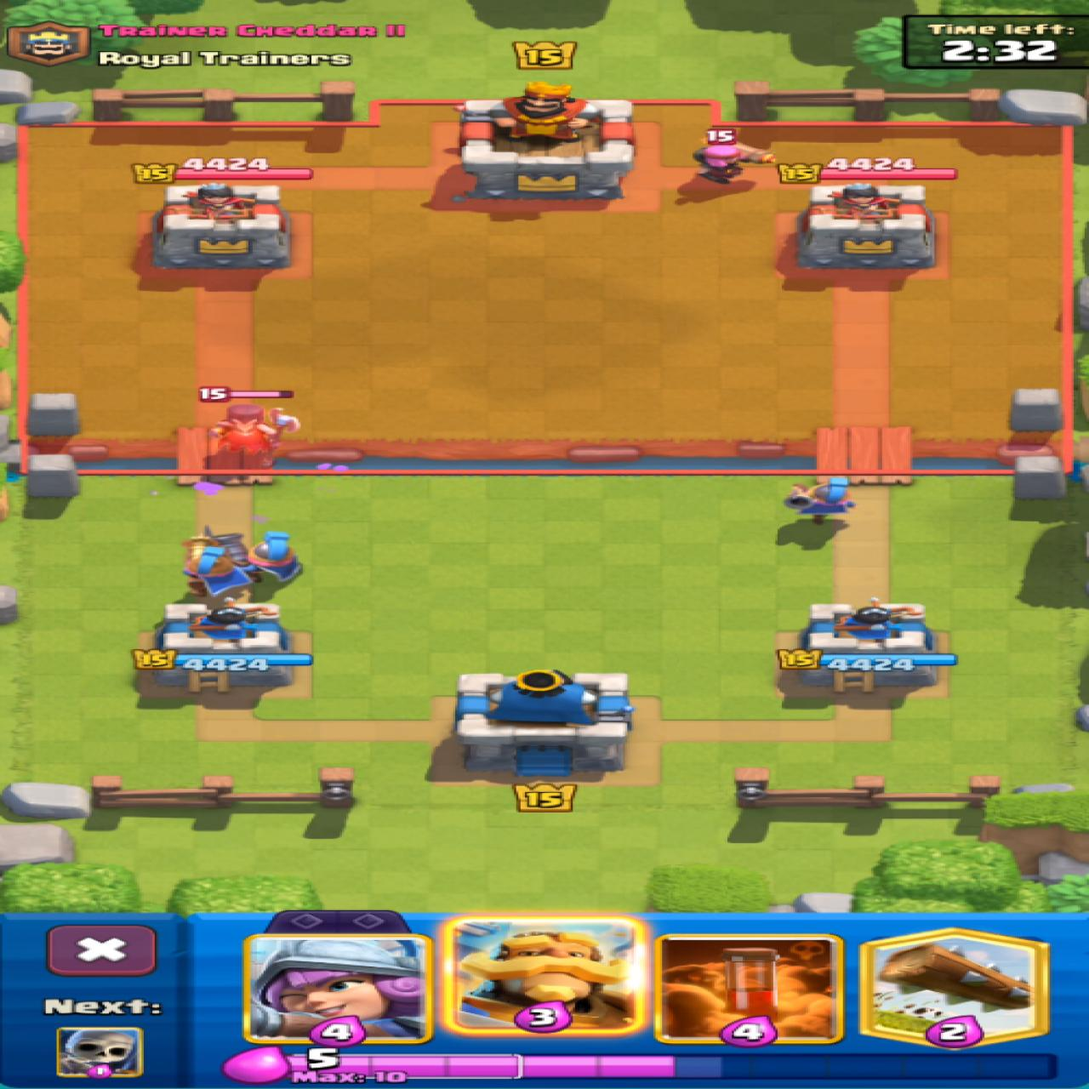Enemy-Firecracker: (693, 123, 775, 184)
Enemy-KingTower: (457, 83, 634, 198)
Enemy-NightWitch: (207, 405, 296, 482)
Enemy-PrincessTower: (152, 185, 290, 269), (797, 183, 932, 266)
